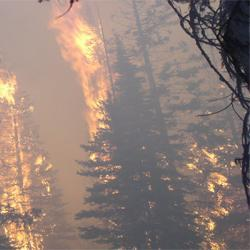fire: (70, 23, 105, 57), (0, 82, 16, 101)
